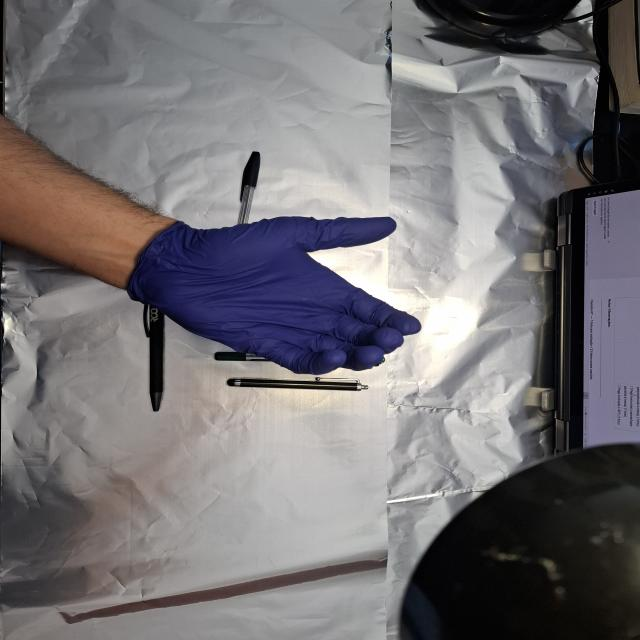glove_on: (121, 215, 424, 376)
